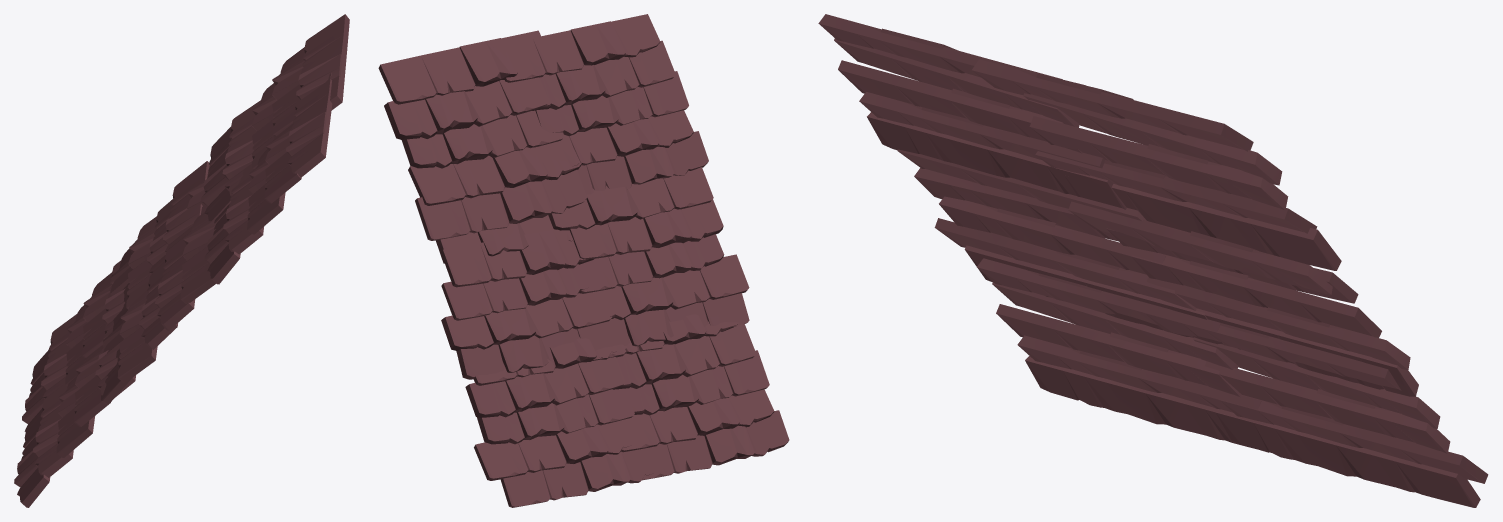
Rendered from RedTopHouse.fbx.
3 views of the same model, side by side, from view 1: azimuth 30°, elevation 25°; view 2: azimuth 150°, elevation 25°; view 3: azimuth 270°, elevation 25° (orthographic). The views are drawn at different scales.
Parts seen in each view (by area): view 1: RedTopHouse_Merged; view 2: RedTopHouse_Merged; view 3: RedTopHouse_Merged.
Part boxes in pixels (bbox=[...]): RedTopHouse_Merged: bbox=[14, 14, 349, 507]; RedTopHouse_Merged: bbox=[378, 14, 789, 507]; RedTopHouse_Merged: bbox=[818, 14, 1488, 507].
Size of the model in its own units: 649 by 589 by 645.
